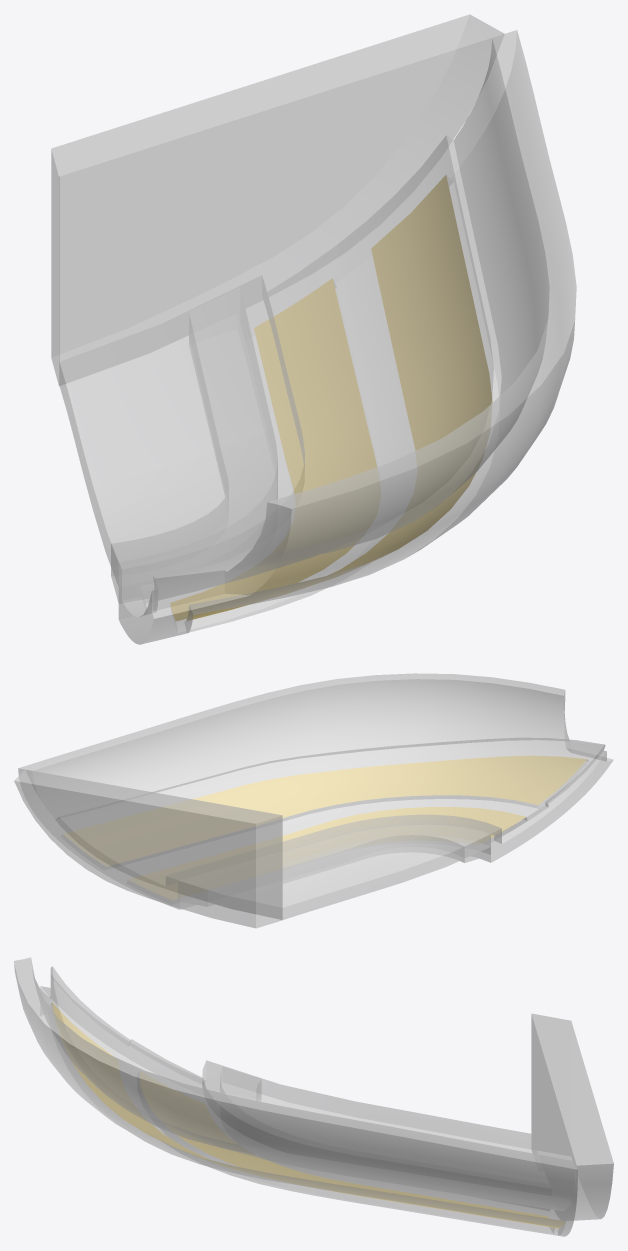
The picture shows the model from 3 angles, top to bottom: view 1: azimuth 30°, elevation 25°; view 2: azimuth 150°, elevation 25°; view 3: azimuth 270°, elevation 25°; orthographic projection. The views are drawn at different scales.
Visible parts, largest first — view 1: __-__1 (×2), __8 (×2); view 2: __-__1 (×2), __8 (×2); view 3: __-__1 (×2), __8 (×2).
Part boxes in pixels (x1=…): __-__1 (×2): x1=59, y1=30, x2=576, y2=644; __8 (×2): x1=51, y1=14, x2=504, y2=603; __-__1 (×2): x1=18, y1=673, x2=613, y2=919; __8 (×2): x1=14, y1=769, x2=490, y2=928; __-__1 (×2): x1=14, y1=957, x2=577, y2=1236; __8 (×2): x1=220, y1=1013, x2=613, y2=1220.
Bounding box in the file's own units: 233 × 240 × 66.03.
